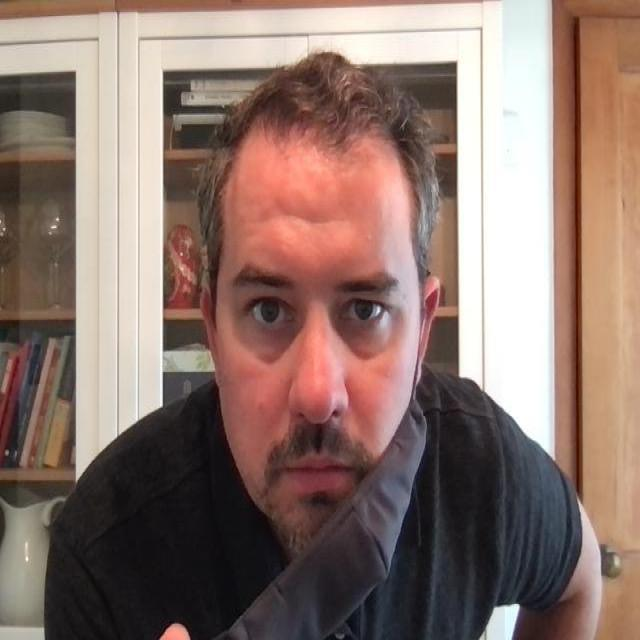face: (202, 119, 425, 557)
